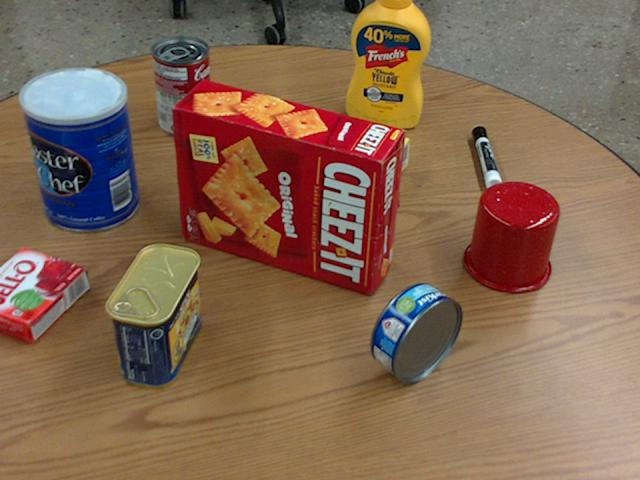cracker_box: (173, 80, 404, 295)
gelatin_box: (0, 246, 86, 340)
large_marker: (473, 126, 502, 190)
master_chef_can: (20, 68, 137, 232)
mug: (462, 180, 558, 292)
mustard_bottle: (347, 0, 430, 126)
potted_meat_can: (103, 242, 198, 386)
sugar_box: (243, 99, 409, 200)
tomato_soup_can: (152, 36, 212, 135)
tuna_fish_can: (371, 282, 461, 381)
